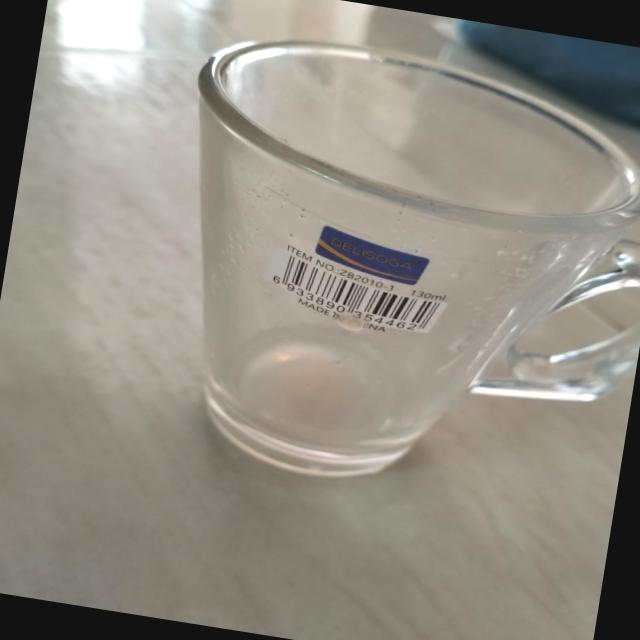glass-VX4N: (134, 17, 640, 524)
